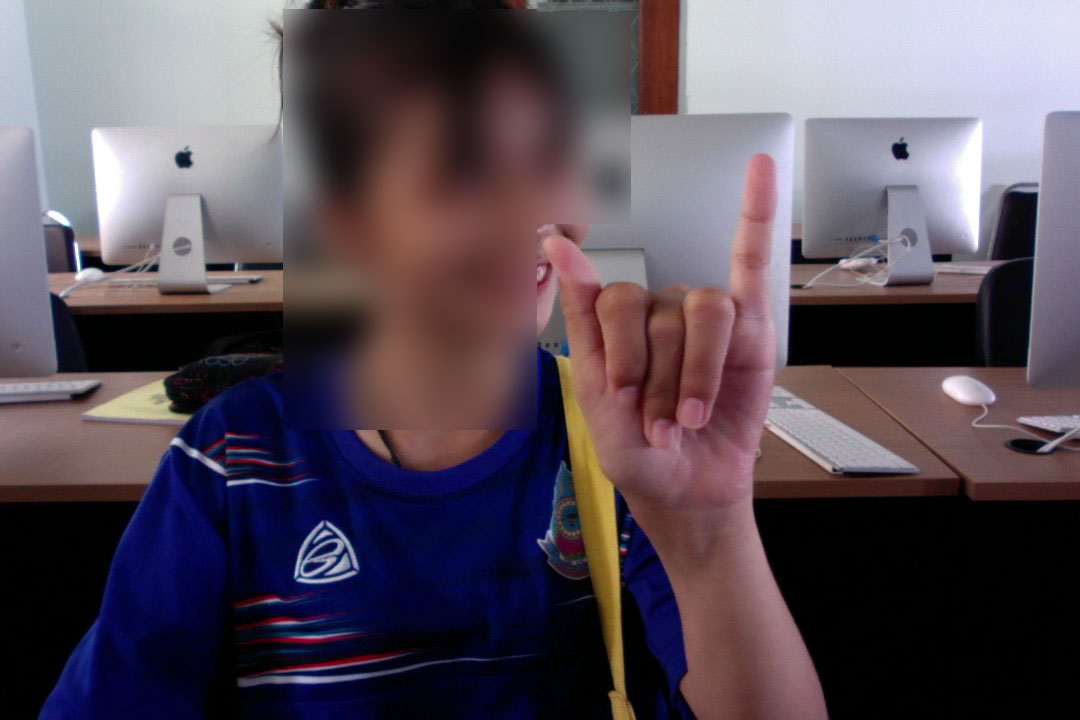yor: (538, 149, 788, 537)
